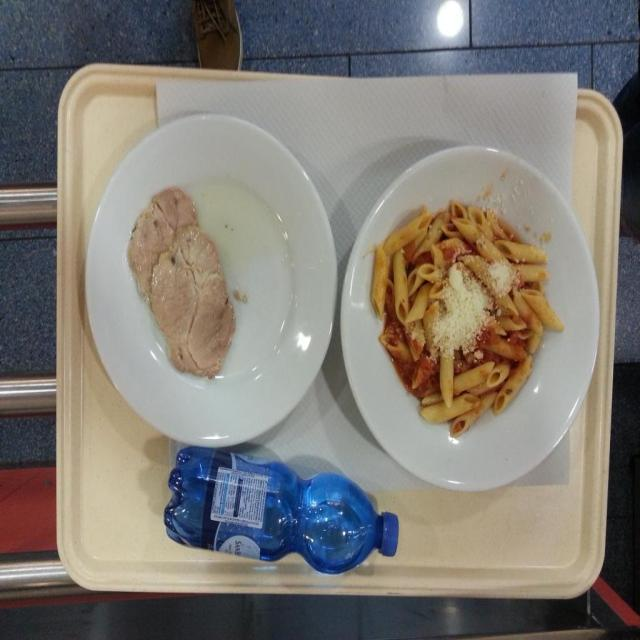plate: (339, 143, 597, 497), (83, 114, 336, 452)
